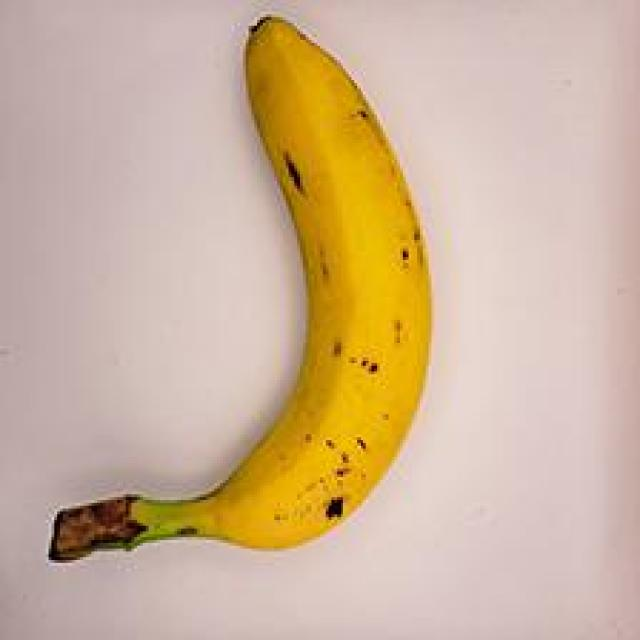ripe: (65, 6, 463, 578)
